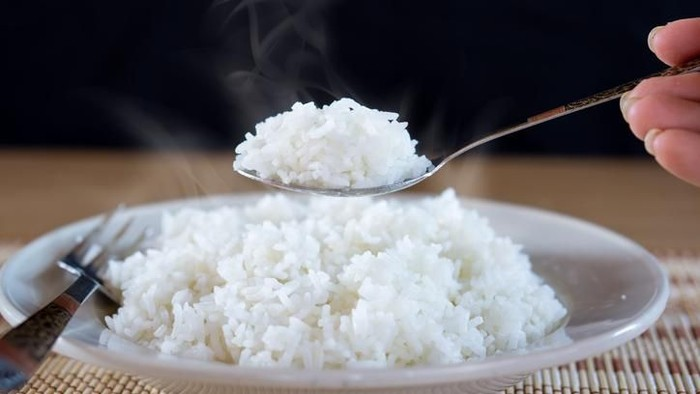Nasi Putih: (107, 173, 602, 372)
